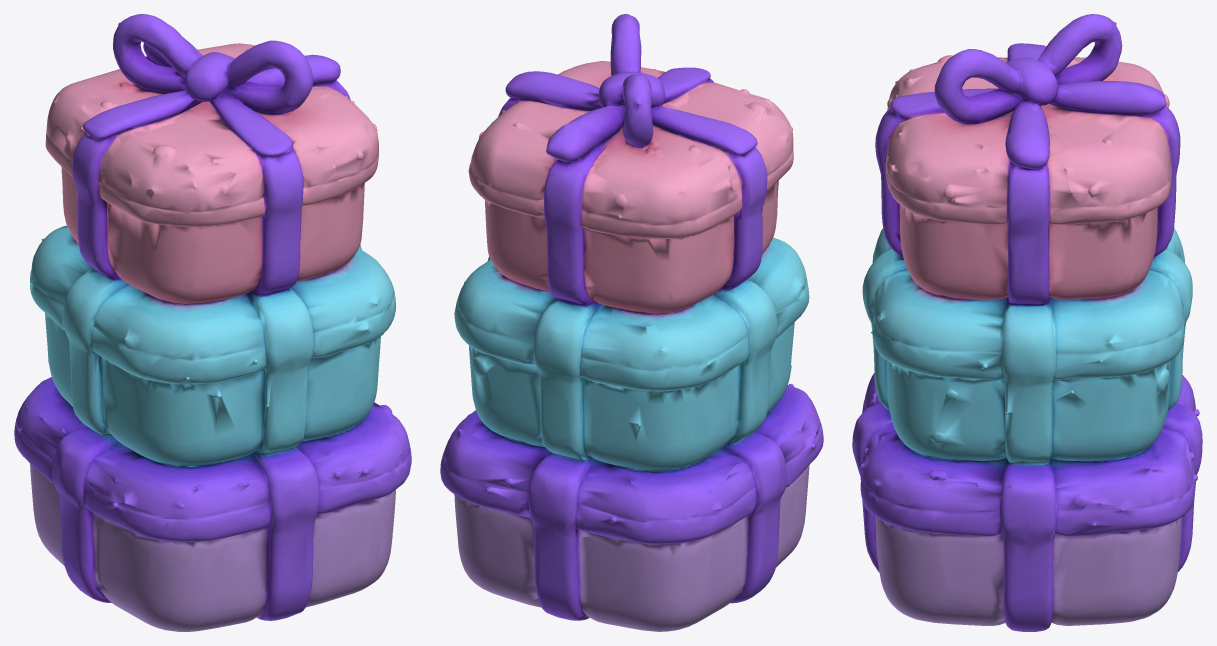
File: party-gifts.glb
3 views of the same model, side by side, from view 1: azimuth 30°, elevation 25°; view 2: azimuth 150°, elevation 25°; view 3: azimuth 270°, elevation 25° (orthographic). The views are drawn at different scales.
Parts seen in each view (by area): view 1: tripo_node_2f810e3f-ed01-4749-8248-762934306ad1; view 2: tripo_node_2f810e3f-ed01-4749-8248-762934306ad1; view 3: tripo_node_2f810e3f-ed01-4749-8248-762934306ad1.
Boxes of the visible parts, bbox=[...] form: tripo_node_2f810e3f-ed01-4749-8248-762934306ad1: bbox=[14, 14, 411, 631]; tripo_node_2f810e3f-ed01-4749-8248-762934306ad1: bbox=[440, 14, 823, 631]; tripo_node_2f810e3f-ed01-4749-8248-762934306ad1: bbox=[852, 14, 1202, 631].
Size of the model in its own units: 0.5833 by 0.9999 by 0.5813.
1 material, 1 textured.
